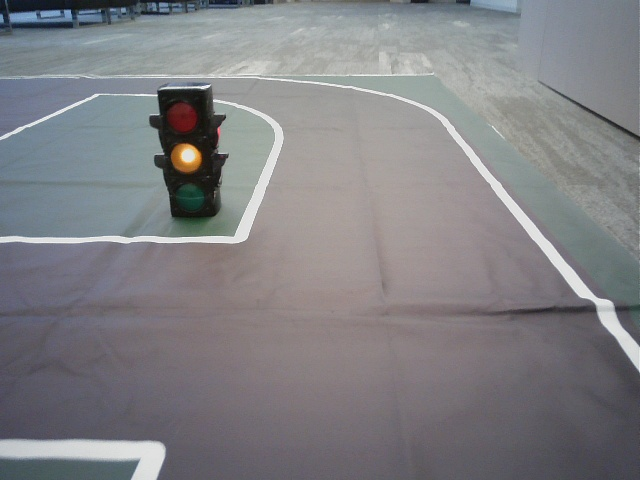yellow: (160, 90, 211, 212)
